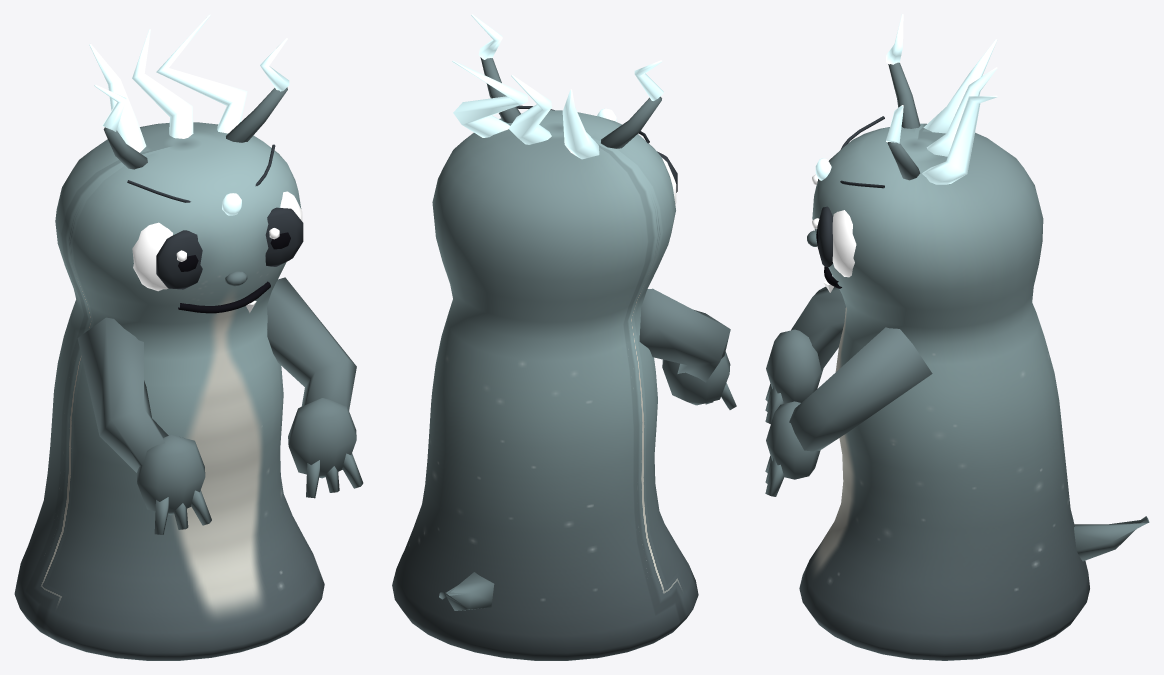
The model's file is huracan_pixar.glb.
3 renders of one model, left to right at view 1: azimuth 30°, elevation 25°; view 2: azimuth 150°, elevation 25°; view 3: azimuth 270°, elevation 25°, orthographic. The views are drawn at different scales.
Visible parts, largest first — view 1: huracan_cuerpo; view 2: huracan_cuerpo; view 3: huracan_cuerpo.
Part boxes in pixels (box(x1,y1,x2,y2)): huracan_cuerpo: box(14, 14, 363, 660); huracan_cuerpo: box(392, 14, 736, 660); huracan_cuerpo: box(765, 14, 1149, 660).
Size of the model in its own units: 0.2973 by 0.58 by 0.3739.
Materials: 5 (1 with a texture image).
